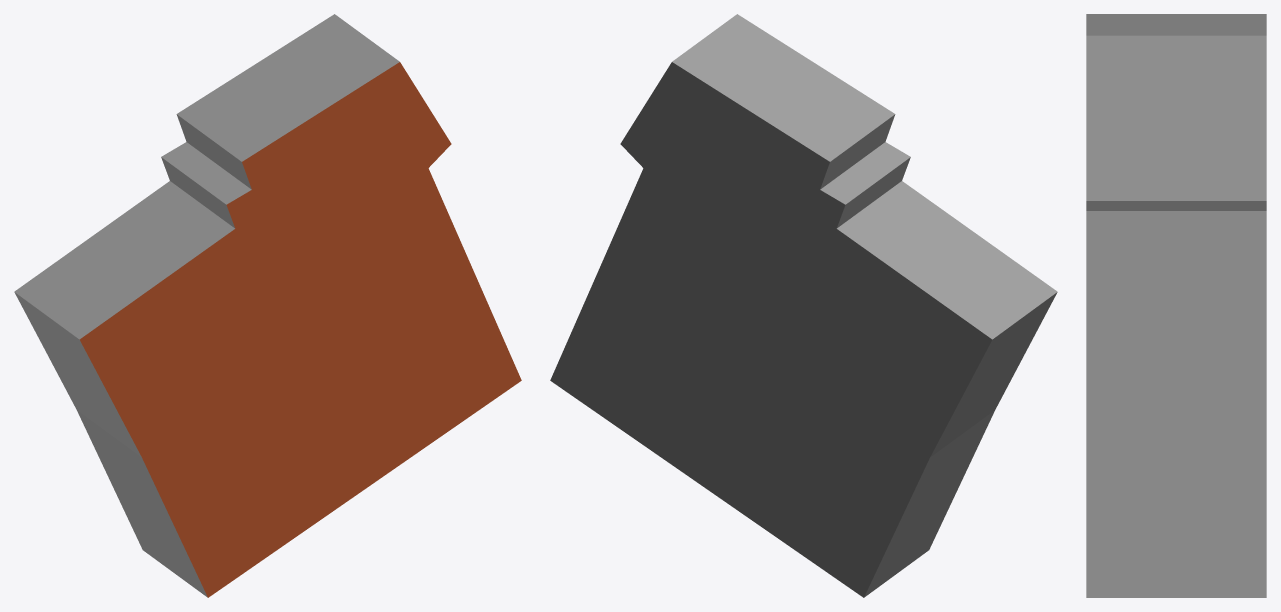
File: construction_1342_assumed_A_Casa_h6m.obj
3 renders of one model, left to right at view 1: azimuth 30°, elevation 25°; view 2: azimuth 150°, elevation 25°; view 3: azimuth 270°, elevation 25°, orthographic. The views are drawn at different scales.
Parts seen in each view (by area): view 1: construction_1342_assumed_A_Casa; view 2: construction_1342_assumed_A_Casa; view 3: construction_1342_assumed_A_Casa.
Part boxes in pixels (x1,y1,x2,y2): construction_1342_assumed_A_Casa: [14, 14, 521, 597]; construction_1342_assumed_A_Casa: [550, 14, 1057, 597]; construction_1342_assumed_A_Casa: [1086, 14, 1266, 597].
Size of the model in its own units: 23.43 by 24.77 by 6.
